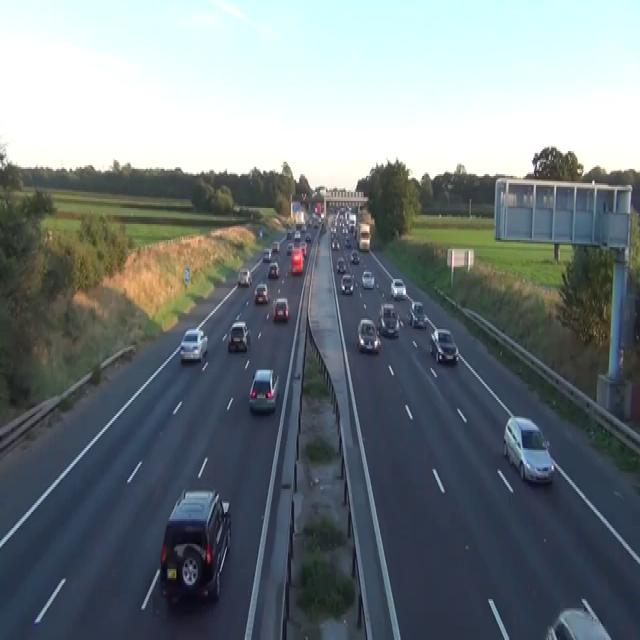Car: (159, 487, 231, 606), (502, 414, 554, 484), (545, 598, 613, 638), (248, 368, 279, 412), (429, 327, 458, 363), (179, 327, 208, 361), (357, 318, 381, 354), (377, 302, 400, 336), (227, 320, 250, 352), (407, 301, 426, 327), (273, 297, 289, 322), (390, 277, 406, 299), (290, 249, 303, 274), (254, 283, 269, 304), (237, 267, 252, 286), (340, 274, 353, 293), (361, 270, 374, 288), (359, 233, 370, 251), (267, 262, 279, 278), (336, 256, 346, 272), (299, 240, 307, 258), (262, 247, 271, 261), (350, 249, 359, 263), (271, 240, 279, 251), (331, 238, 339, 249), (286, 242, 293, 254), (286, 229, 293, 240), (344, 237, 351, 247), (312, 217, 319, 227), (301, 192, 307, 203), (294, 229, 300, 240), (348, 224, 354, 235), (330, 226, 336, 236), (321, 222, 326, 233), (305, 233, 311, 242), (301, 224, 306, 231), (320, 212, 324, 220), (259, 228, 262, 236)
Truck: (356, 222, 371, 251)
